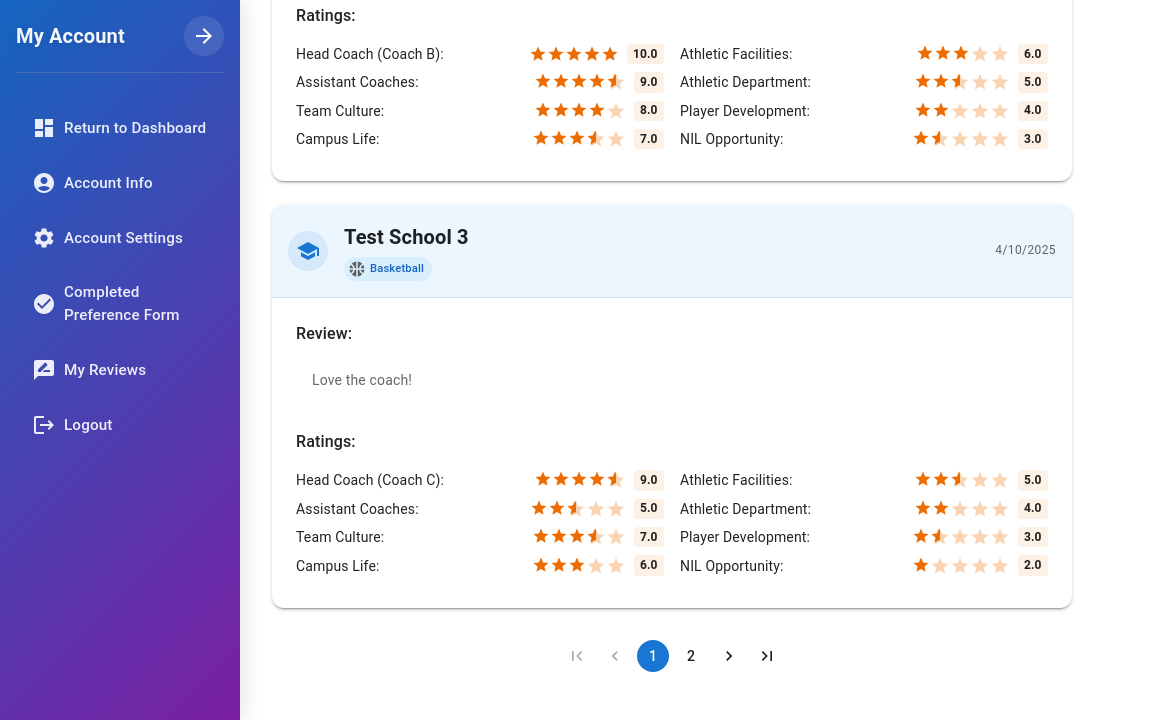
Test: MyReviews Component › navigates to next page on pagination click
(page scrolled)
Click the button named "go to page 2" at (691, 656), box [675, 640, 707, 672]
(page scrolled)
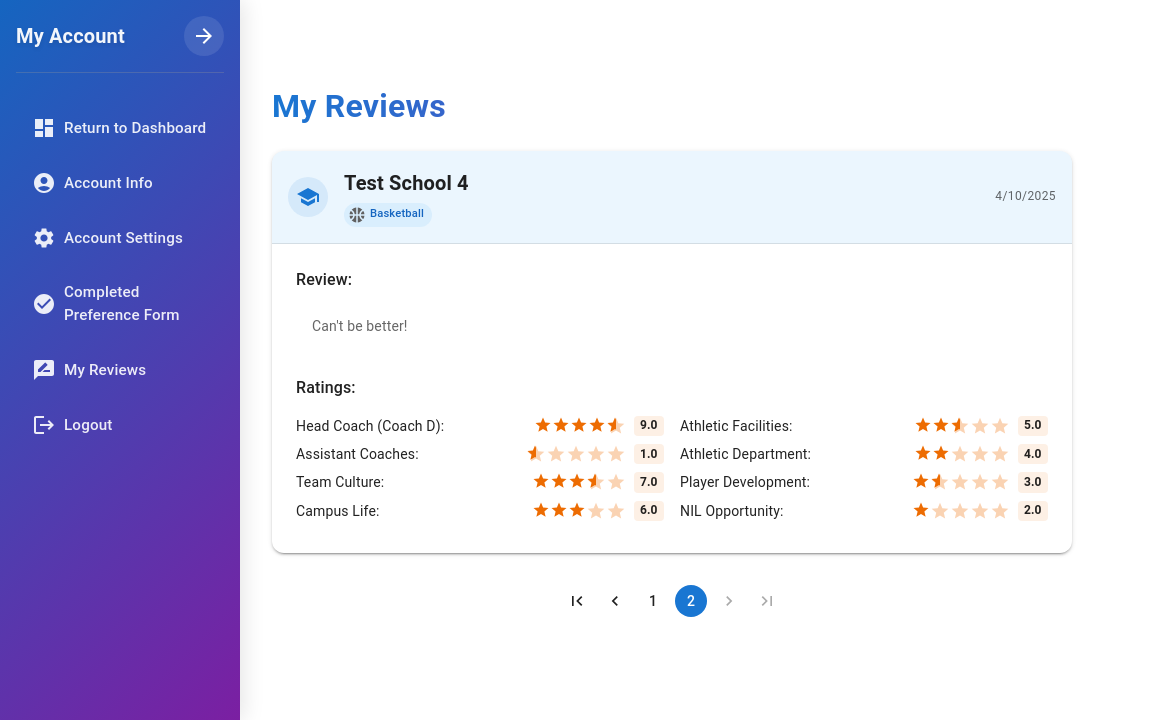
Expected: the heading "Test School 4" is shown, [344, 167, 469, 199]
